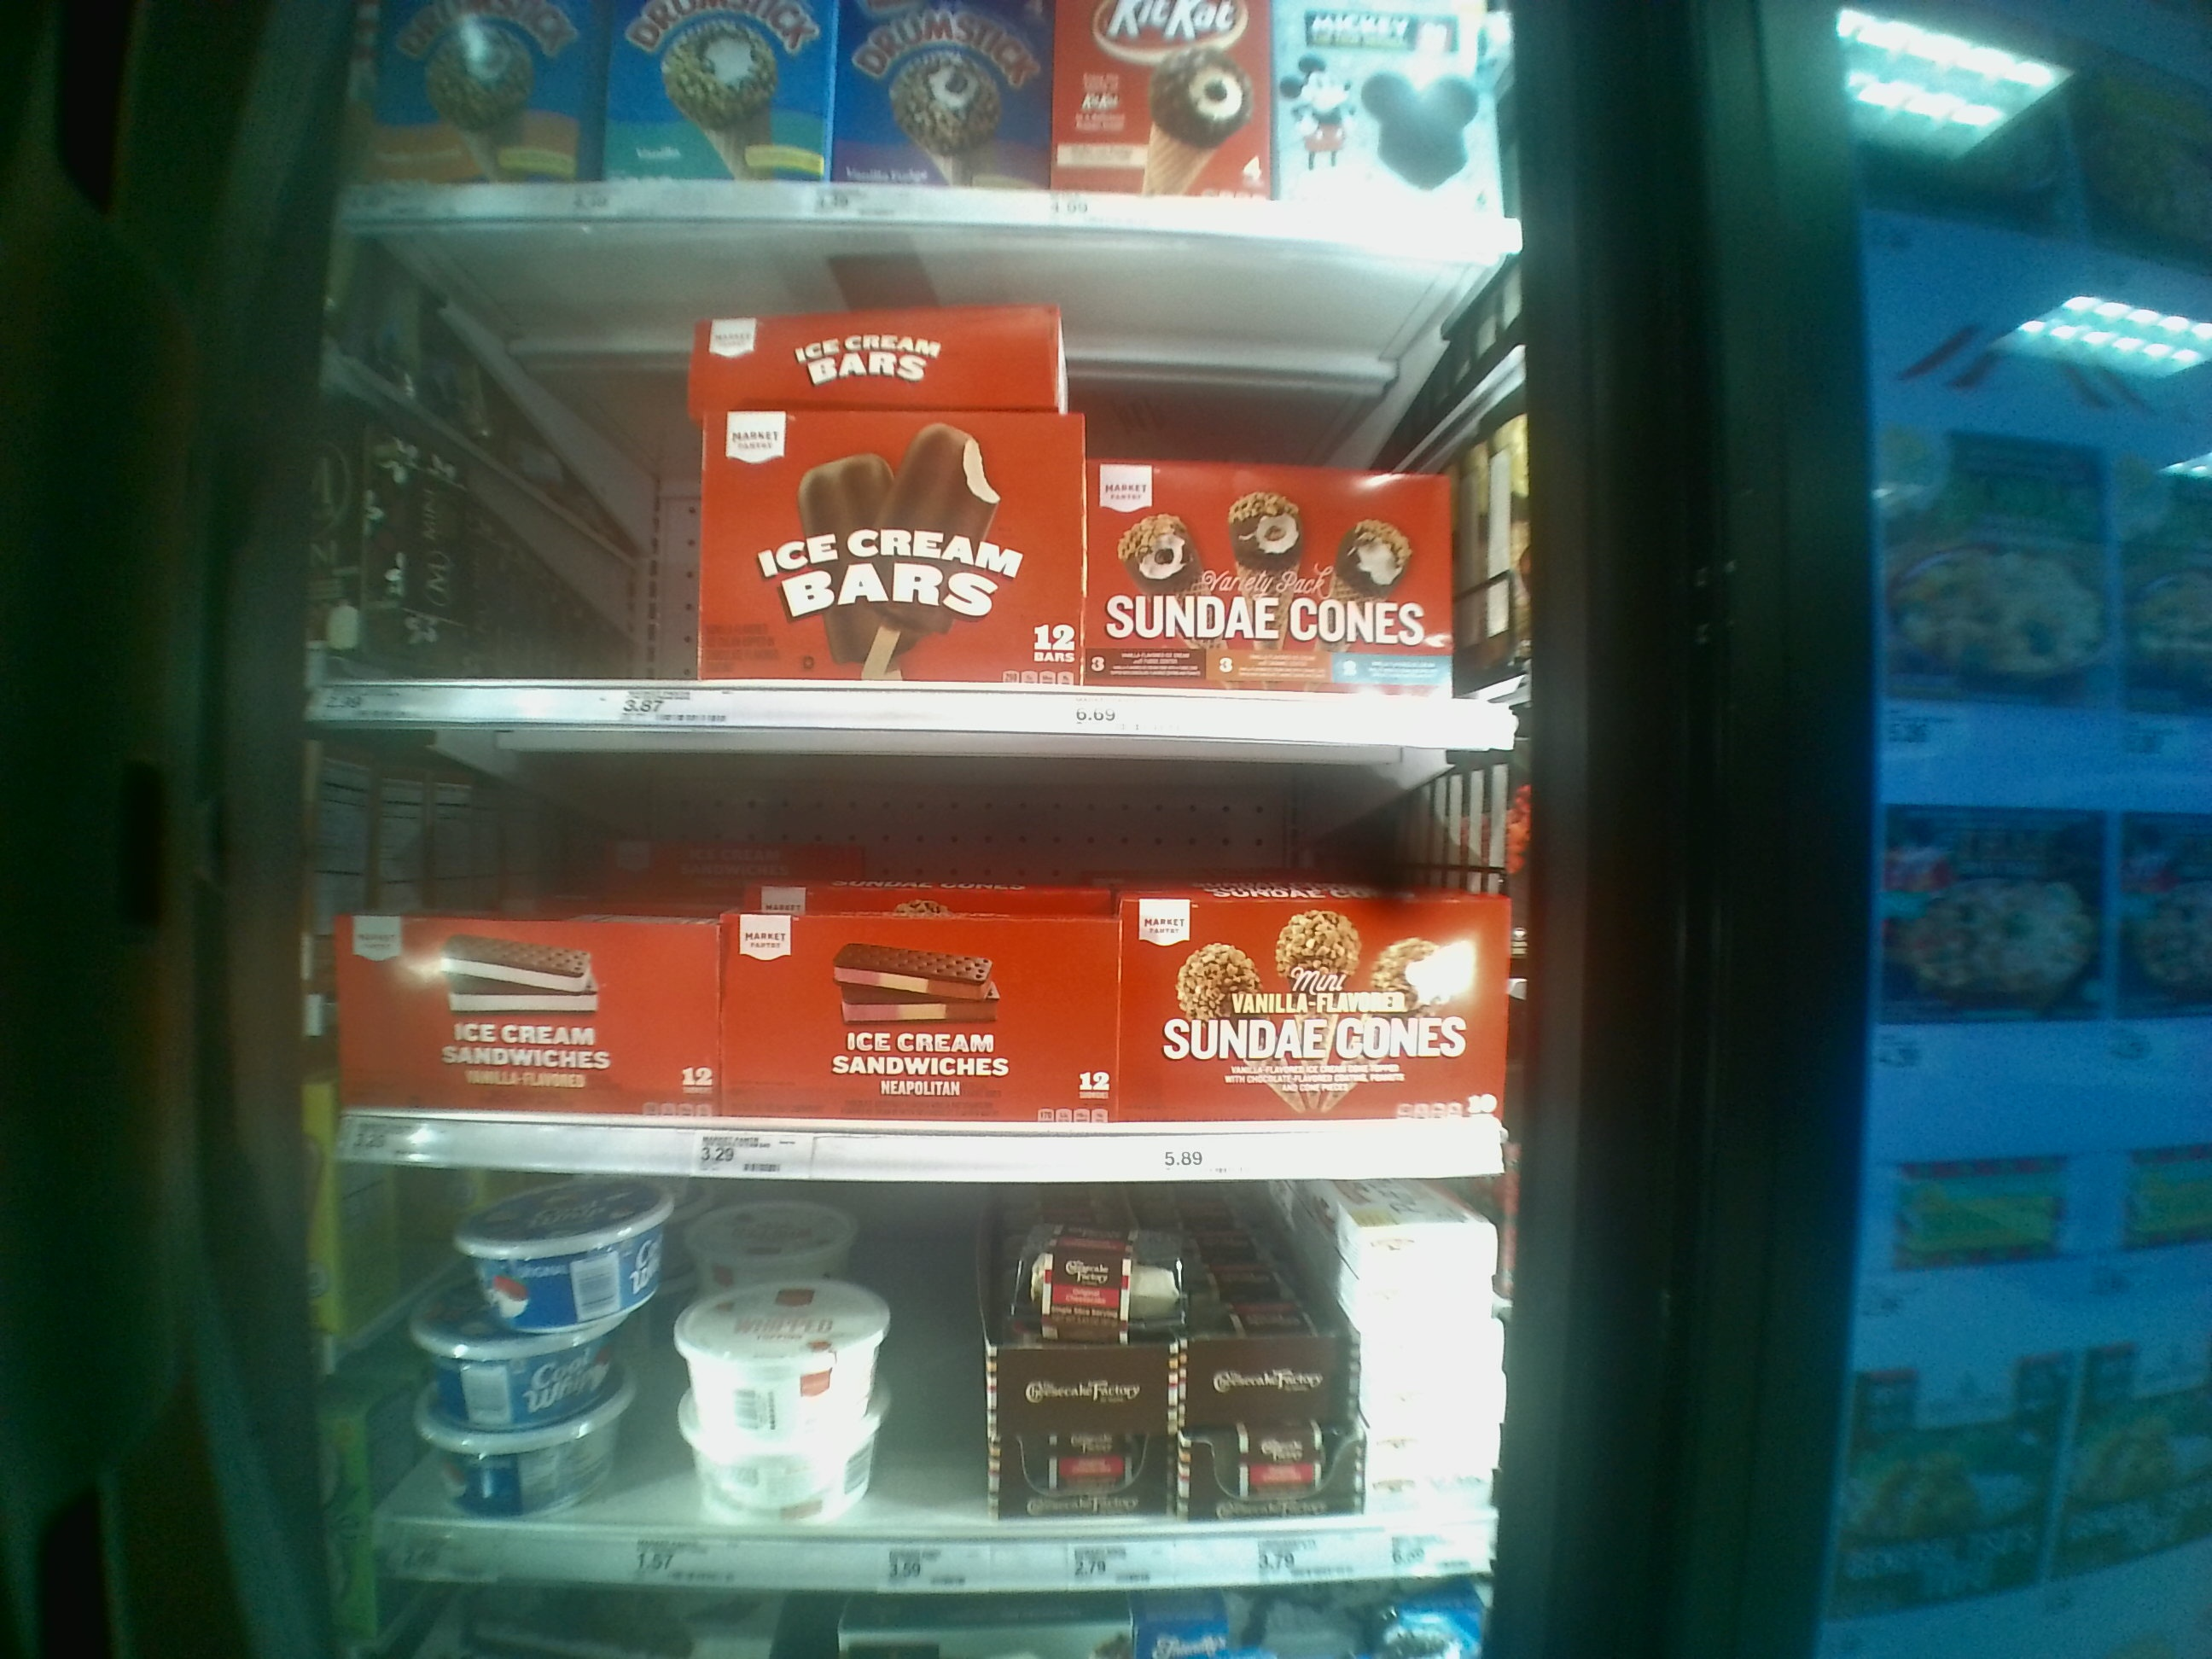shelf: (307, 232, 1533, 753), (324, 753, 1543, 1188), (324, 1190, 1510, 1588)
